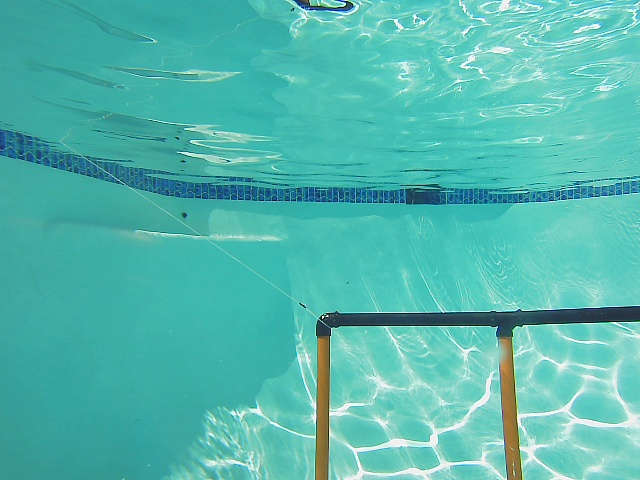Gate: (496, 330, 529, 480), (313, 330, 335, 480)
